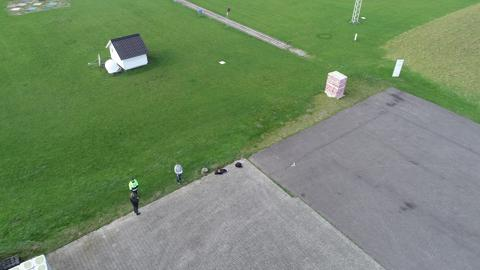RockwoolPallet: (324, 71, 349, 99)
